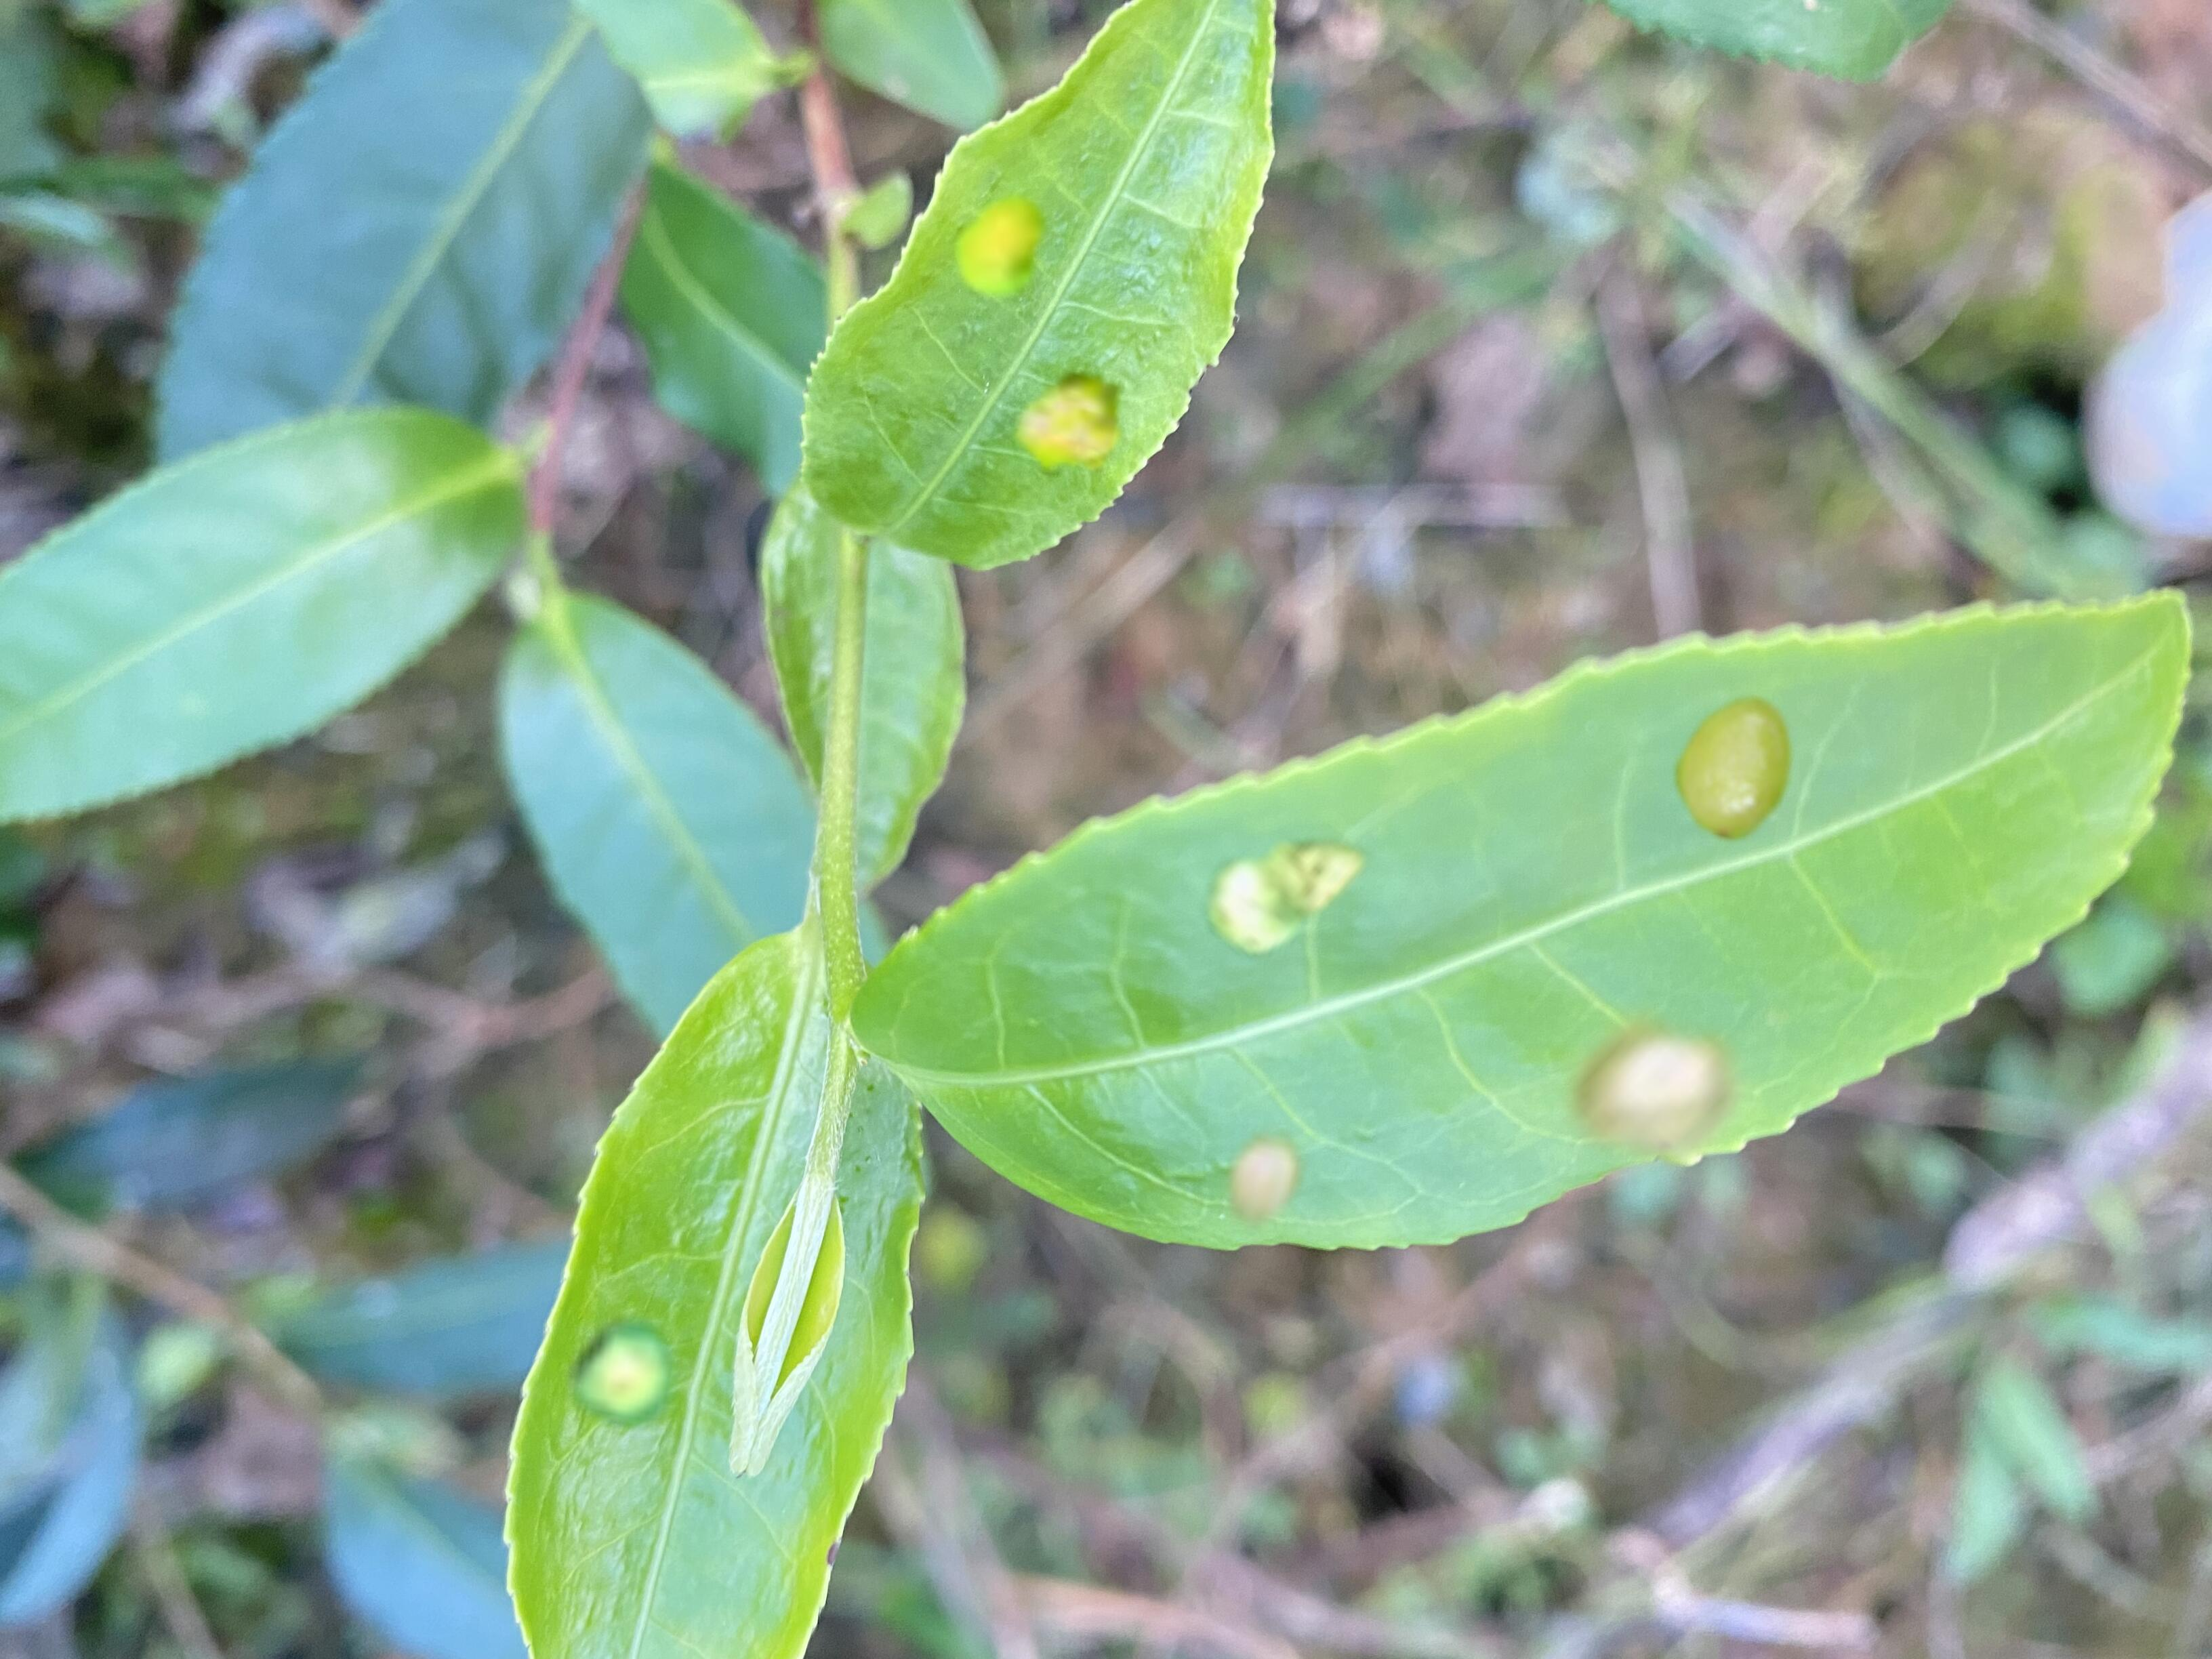chabing_high: (850, 589, 2189, 1255), (798, 2, 1280, 579)
chabing_low: (498, 920, 918, 1652)
